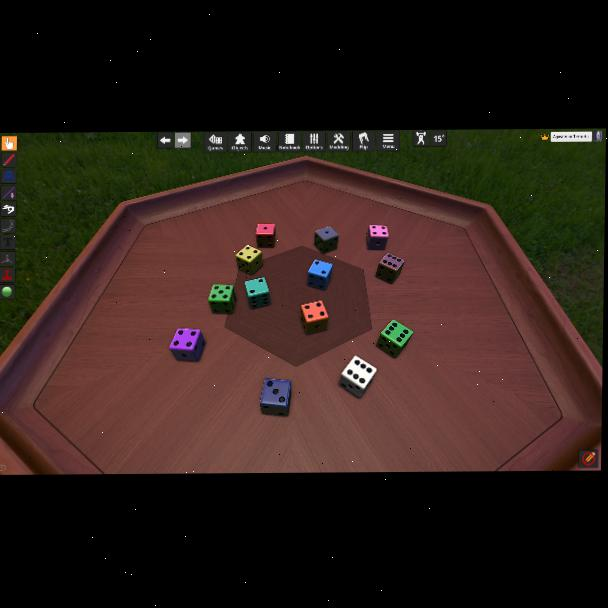d6: (339, 356, 376, 398), (376, 320, 410, 358), (260, 377, 292, 417), (169, 327, 205, 362), (244, 277, 271, 311), (376, 253, 404, 285), (235, 246, 263, 277), (301, 302, 328, 334), (207, 285, 234, 316), (307, 259, 333, 290), (314, 226, 339, 255), (367, 225, 388, 251), (256, 223, 275, 249)
